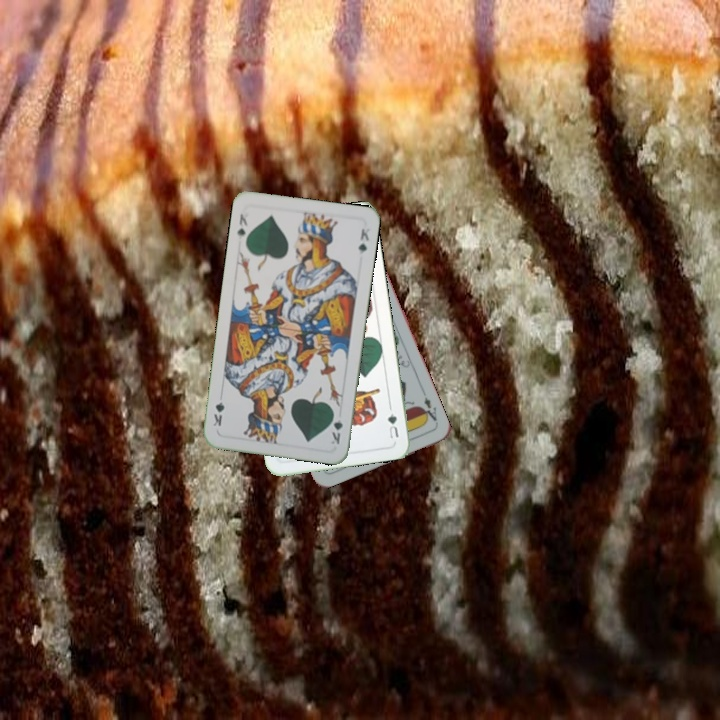EA: (417, 393, 440, 427)
GK: (327, 407, 345, 447), (233, 209, 250, 238)
GU: (383, 409, 401, 441)
